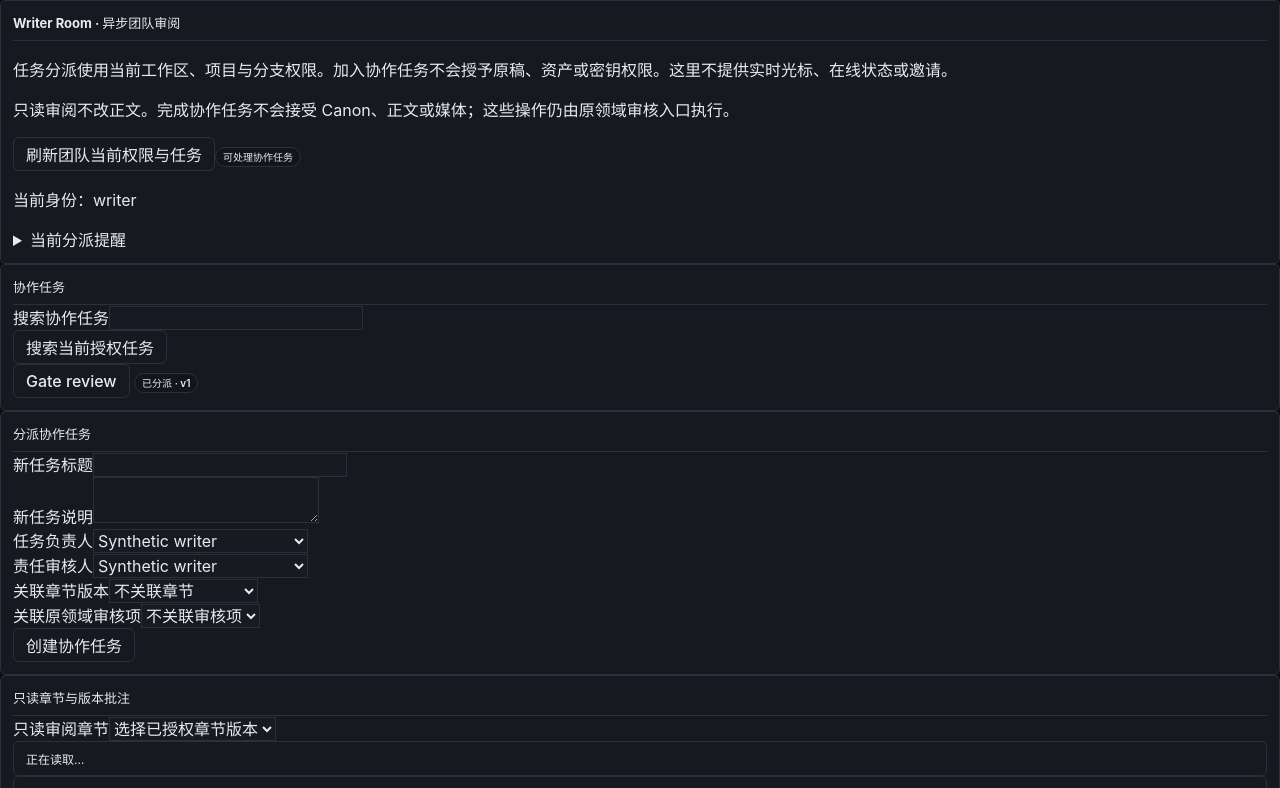
Test: hides cached content when current membership is revoked on refresh
Click the button "Gate review" at (71, 381), box [13,364,130,398]
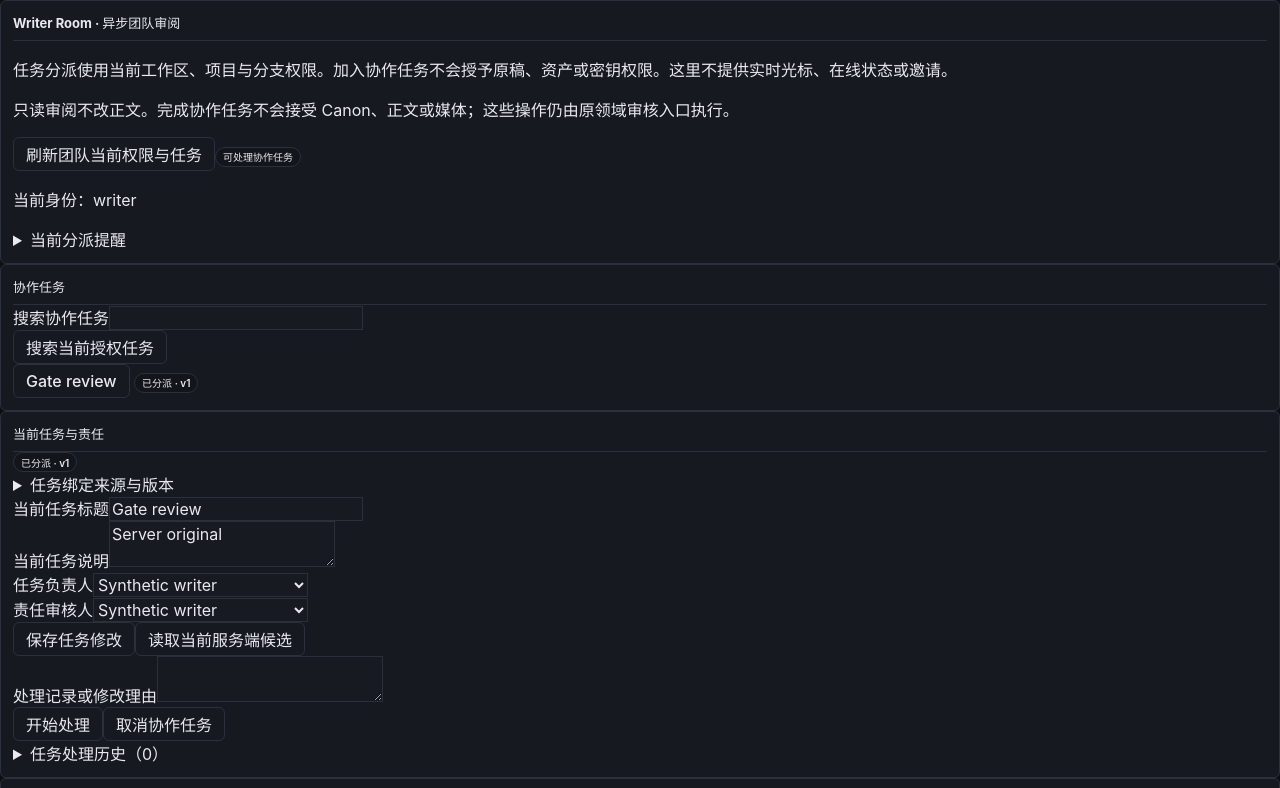
Click the button "刷新团队当前权限与任务" at (114, 154), box [13,137,215,171]
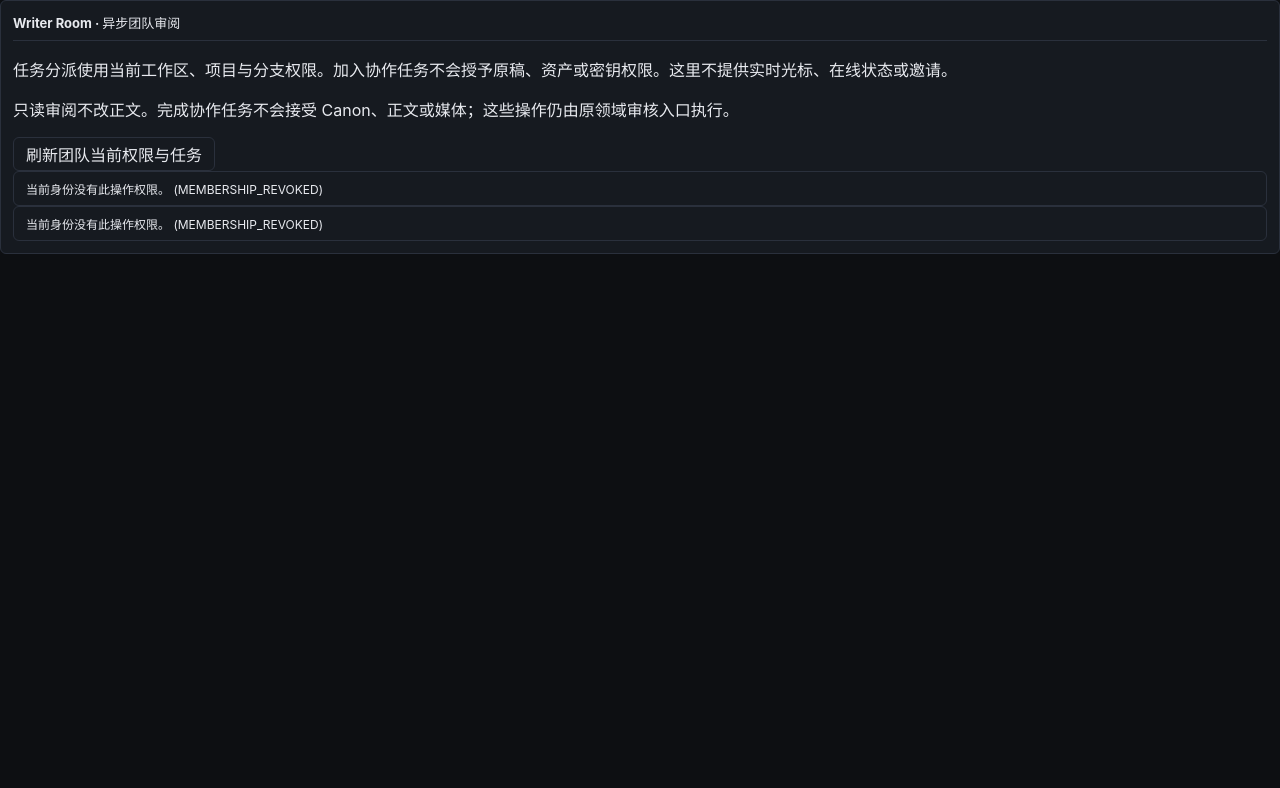
Result: the button "Gate review" is gone
Result: the label "当前任务说明" is gone
